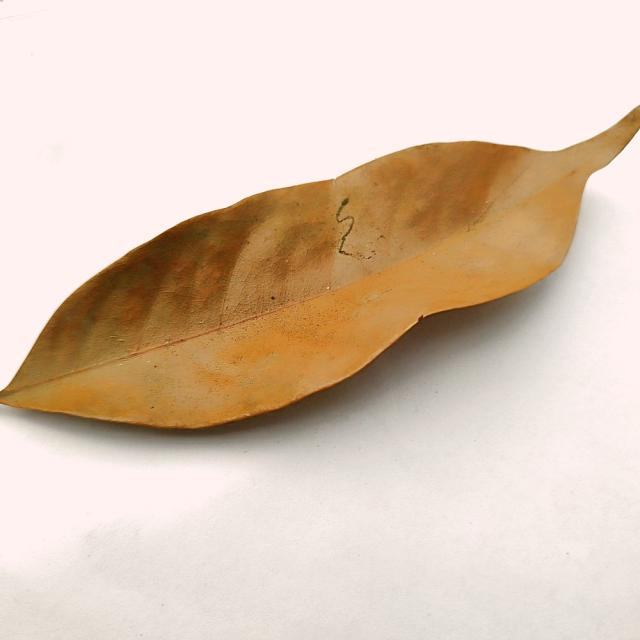Dry_Leaf-Lychee: (0, 104, 639, 434)
